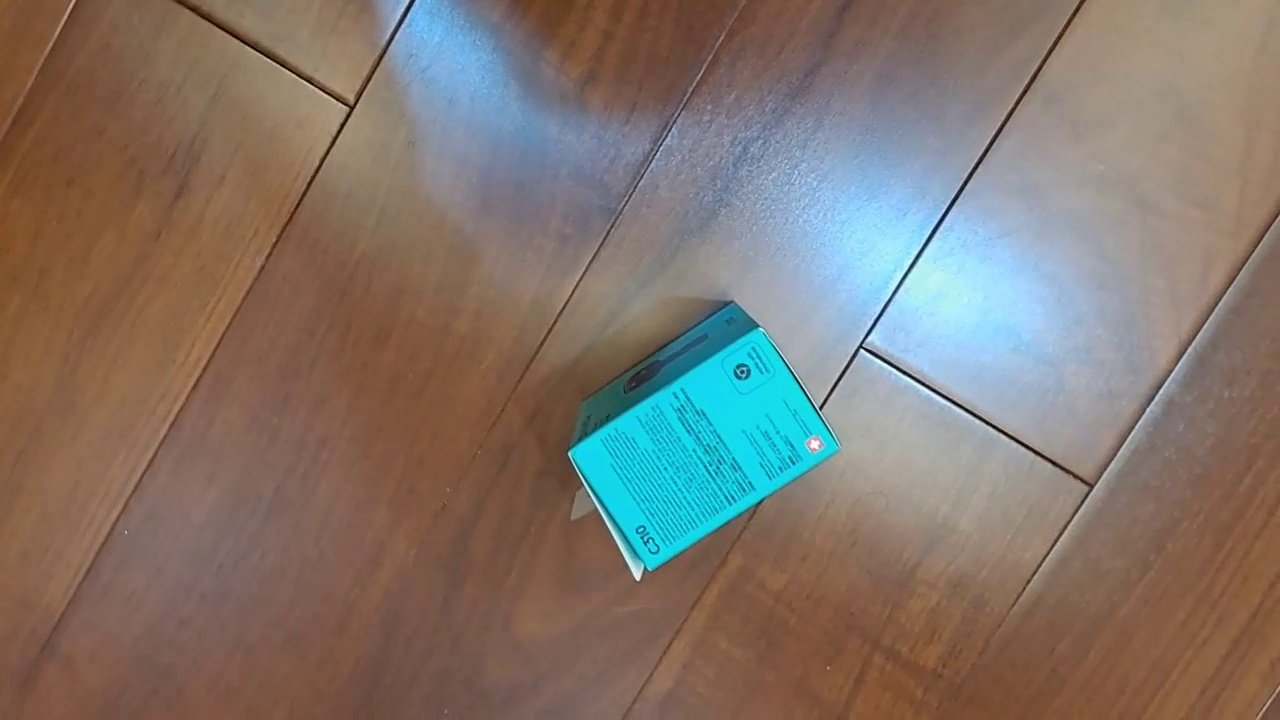webcam: (566, 300, 842, 583)
